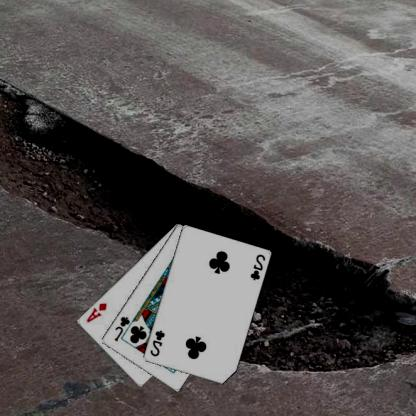2C: (149, 328, 168, 358), (249, 252, 268, 282)
AD: (86, 300, 110, 324)
JC: (113, 314, 133, 342)
